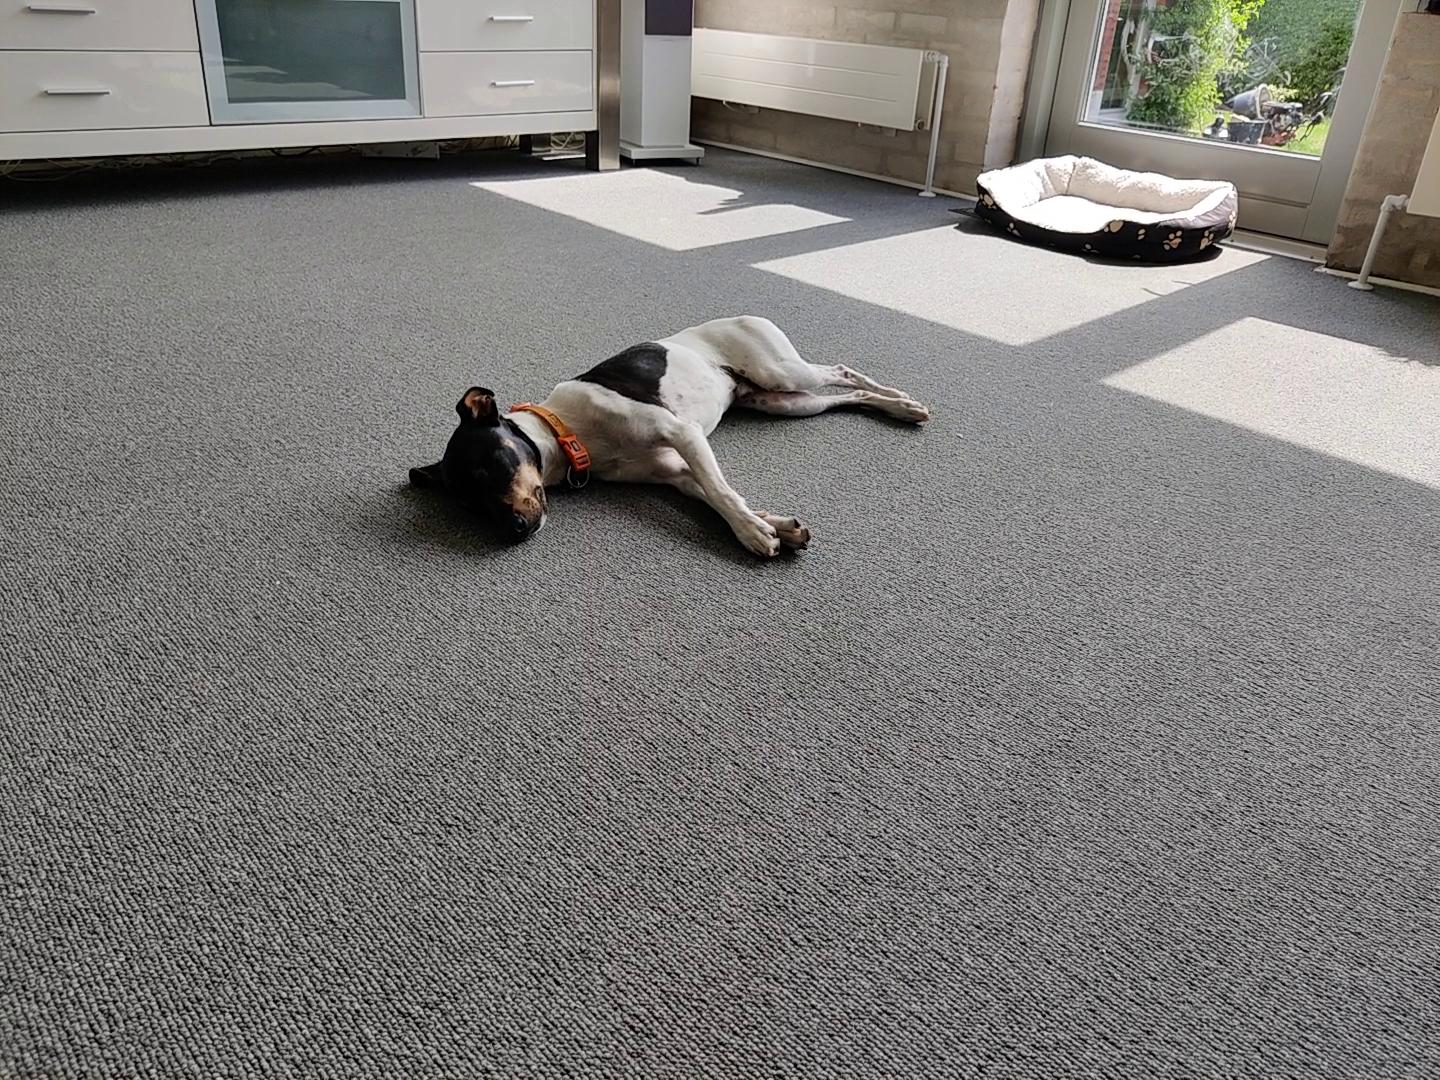Dog: (397, 309, 938, 587)
